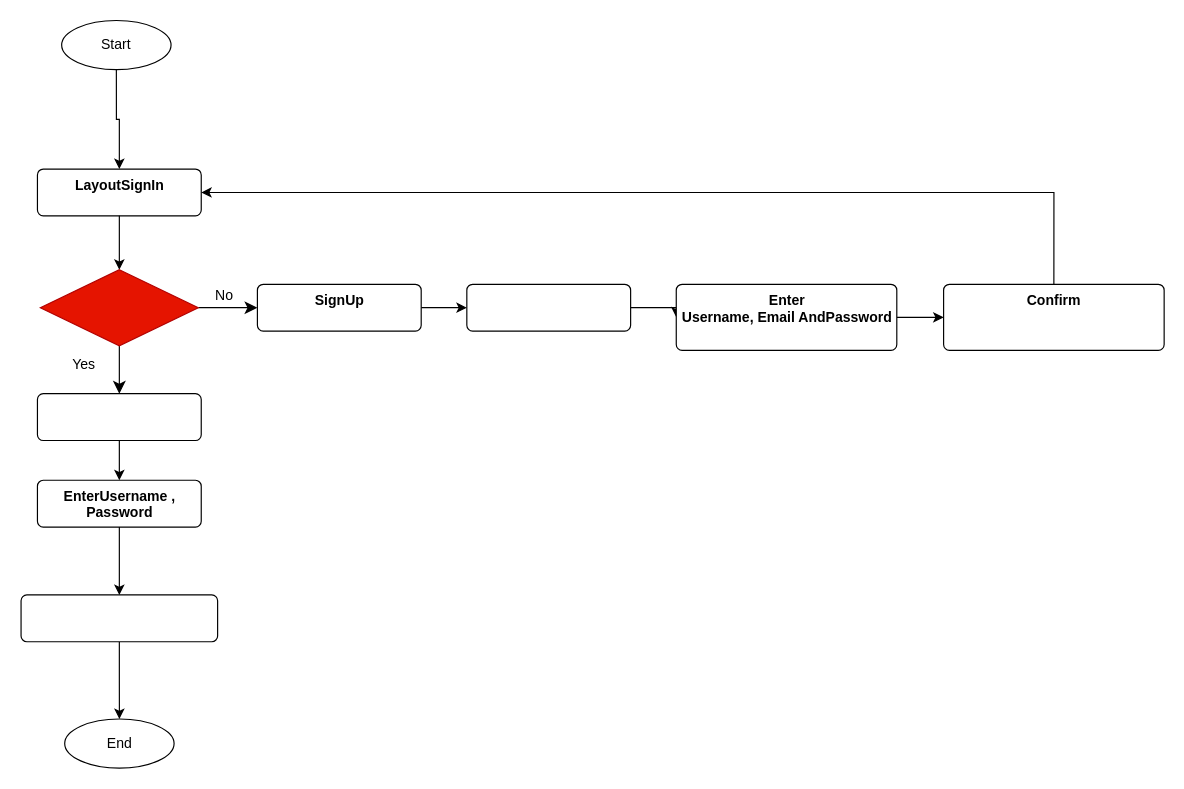
This 1184x789 diagram has some shape labels left out. The shapes that lost their labels are listed below. From the top down, each one's centre as x and y in pixels, then its label:
At pixel 118 307: "Have an account ?".
At pixel 548 307: "LayoutSignUp".
At pixel 118 417: "SignIn".
At pixel 119 618: "HomeLayout".
